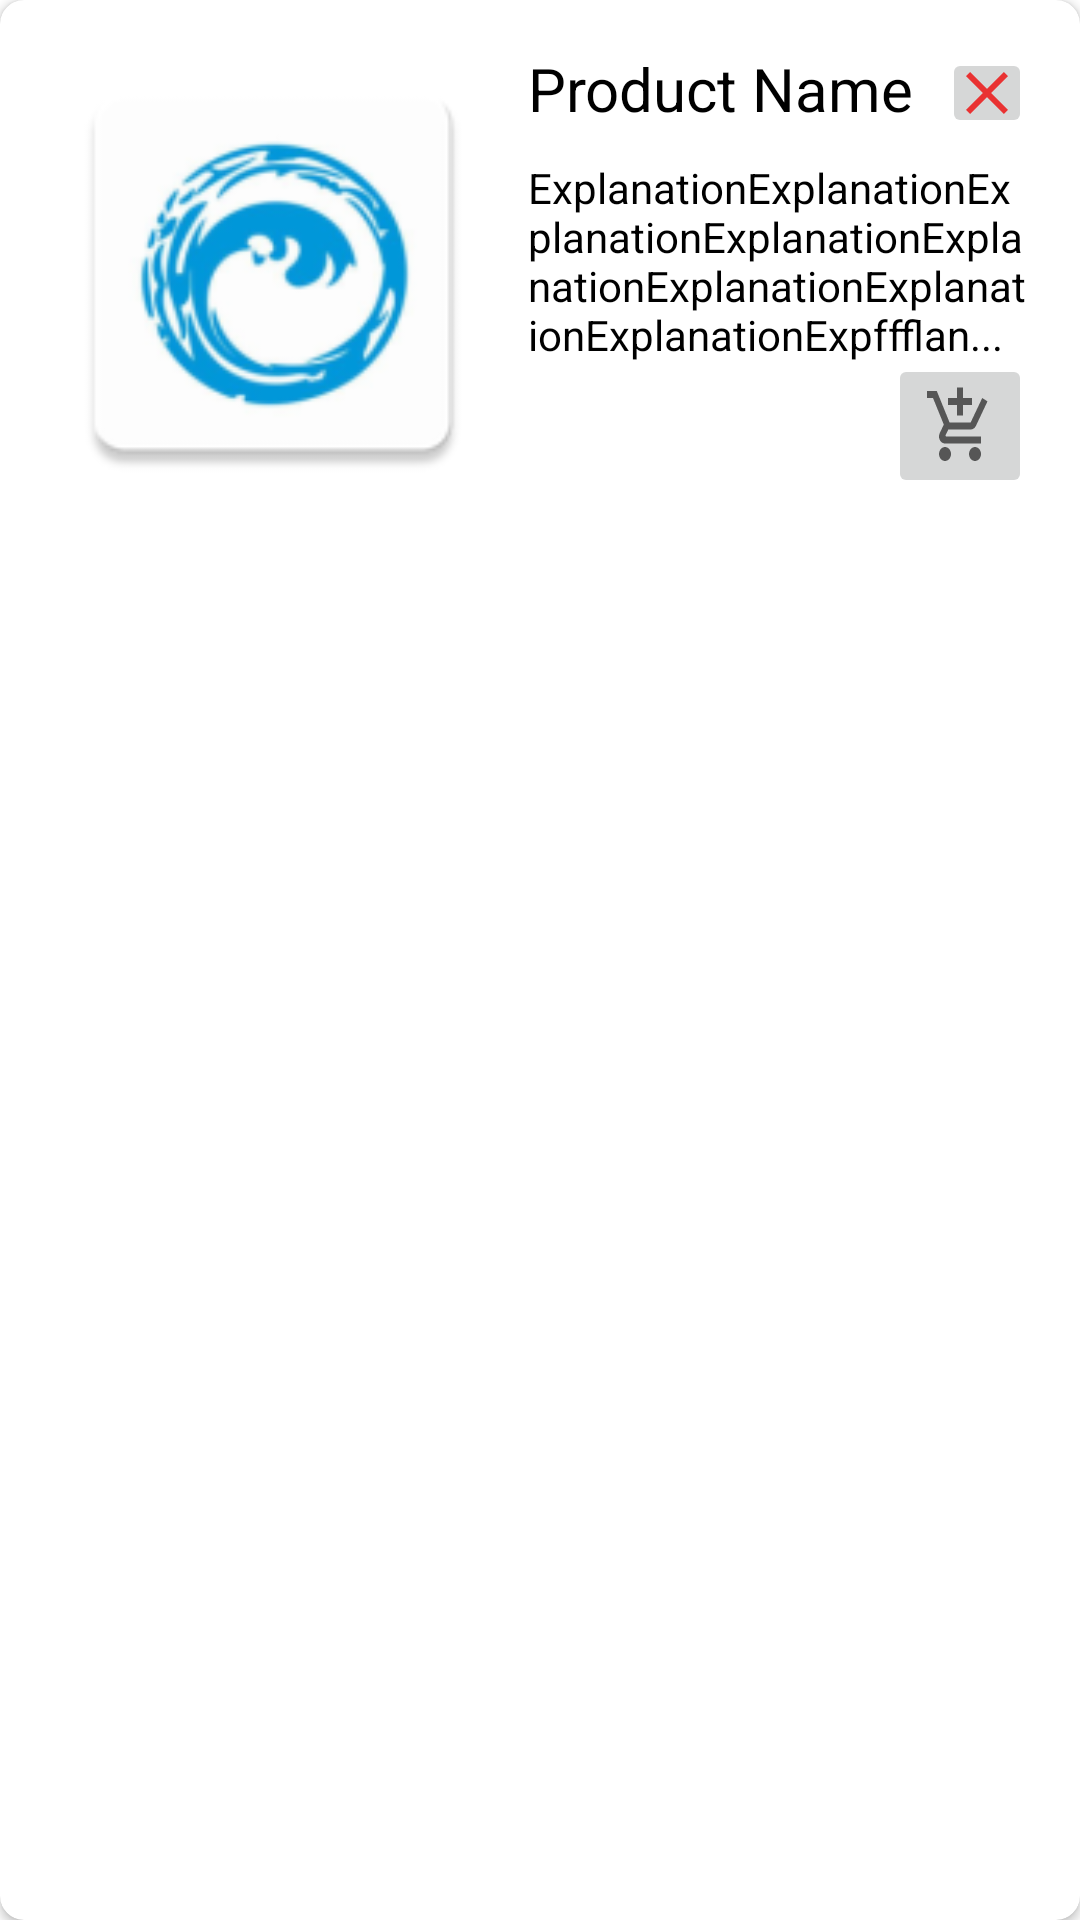

Icons on this 1080x1920 Android screen, each with its box as rect(x1, y1, x2, y2):
add shopping cart: rect(900, 372, 1020, 480)
clear: rect(954, 66, 1020, 120)
